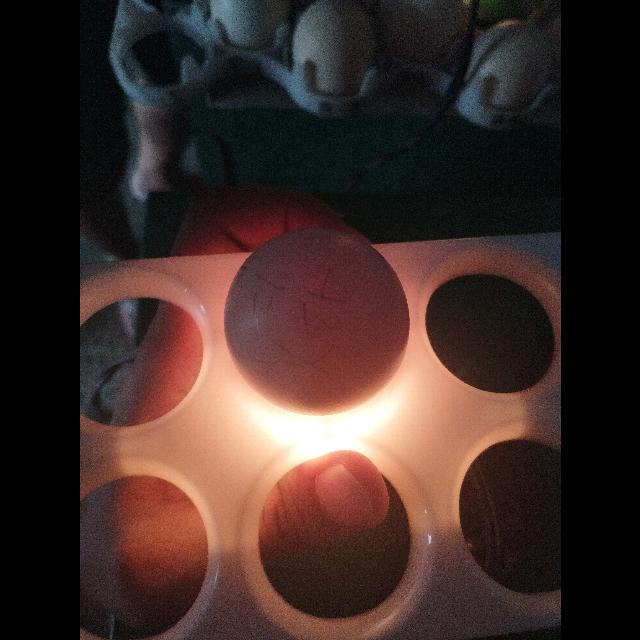Fertile: (221, 225, 411, 420)
